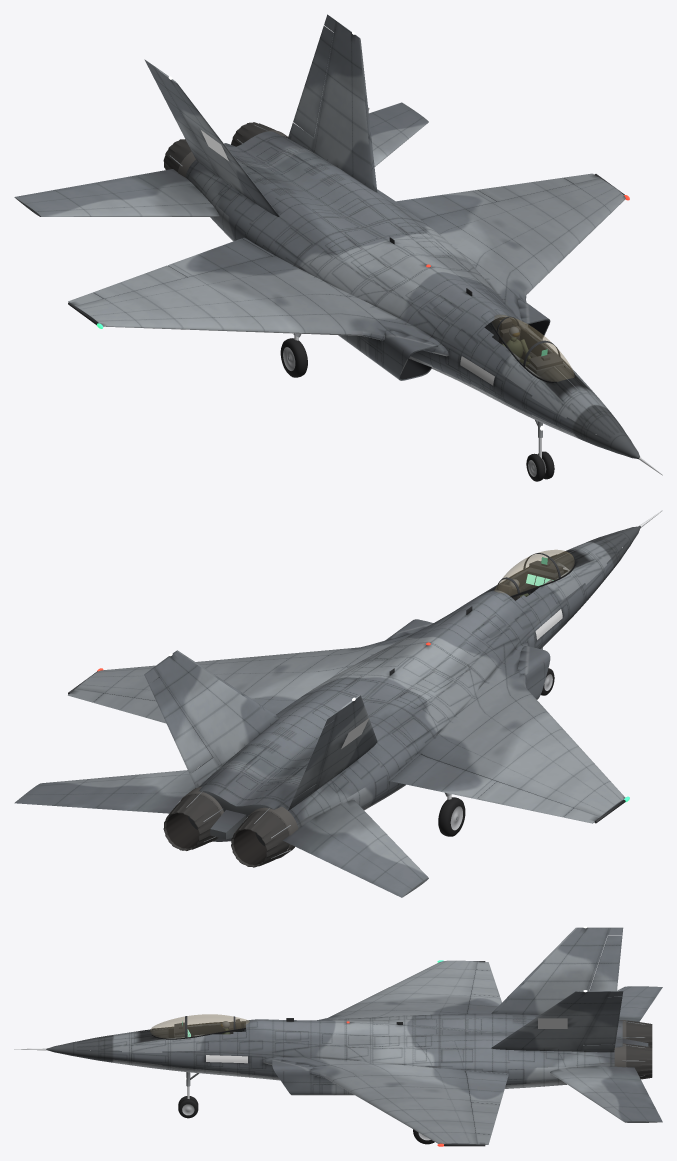
File: jet.glb
3 views of the same model, one above another, from view 1: azimuth 30°, elevation 25°; view 2: azimuth 150°, elevation 25°; view 3: azimuth 270°, elevation 25° (orthographic). The views are drawn at different scales.
Parts seen in each view (by area): view 1: rumpf, fluegel_r, fluegel_l, flosse_l, hoehe_r, flosse_r, haube, einlauf_r, hoehe_l, seite_l, klappe_r, klappe_l (+3 smaller); view 2: rumpf, fluegel_r, fluegel_l, hoehe_r, flosse_l, hoehe_l, flosse_r, klappe_r, seite_l, haube, duese_mantel_r, querruder_r (+8 smaller); view 3: rumpf, fluegel_l, flosse_r, fluegel_r, hoehe_l, flosse_l, einlauf_l, haube, seite_r, klappe_l, seite_l, hoehe_r (+6 smaller).
Part boxes in pixels (<box>): rumpf: <box>185,131,639,459</box>; fluegel_r: <box>75,256,449,356</box>; fluegel_l: <box>421,178,625,329</box>; flosse_l: <box>312,21,377,192</box>; hoehe_r: <box>14,169,219,216</box>; flosse_r: <box>153,65,279,216</box>; haube: <box>492,315,574,381</box>; einlauf_r: <box>338,330,438,380</box>; hoehe_l: <box>369,102,428,166</box>; seite_l: <box>293,26,333,137</box>; klappe_r: <box>168,238,271,277</box>; klappe_l: <box>396,190,496,219</box>; rumpf: <box>188,526,640,846</box>; fluegel_r: <box>419,643,625,816</box>; fluegel_l: <box>75,632,415,714</box>; hoehe_r: <box>283,800,428,897</box>; flosse_l: <box>153,650,279,767</box>; hoehe_l: <box>14,769,195,813</box>; flosse_r: <box>314,695,377,791</box>; klappe_r: <box>390,754,496,799</box>; seite_l: <box>149,677,212,773</box>; haube: <box>494,549,574,595</box>; duese_mantel_r: <box>231,810,289,867</box>; querruder_r: <box>477,781,573,817</box>; rumpf: <box>46,1013,622,1088</box>; fluegel_l: <box>262,1056,477,1144</box>; flosse_r: <box>491,927,609,1015</box>; fluegel_r: <box>319,960,477,1019</box>; hoehe_l: <box>550,1066,662,1122</box>; flosse_l: <box>491,991,610,1051</box>; einlauf_l: <box>272,1059,354,1095</box>; haube: <box>150,1014,249,1038</box>; seite_r: <box>589,936,622,991</box>; klappe_l: <box>465,1071,508,1104</box>; seite_l: <box>583,996,622,1045</box>; hoehe_r: <box>617,986,662,1021</box>.
Bounding box in the file's own units: 13.54 × 5.4 × 20.1.
26 materials, 1 textured.
